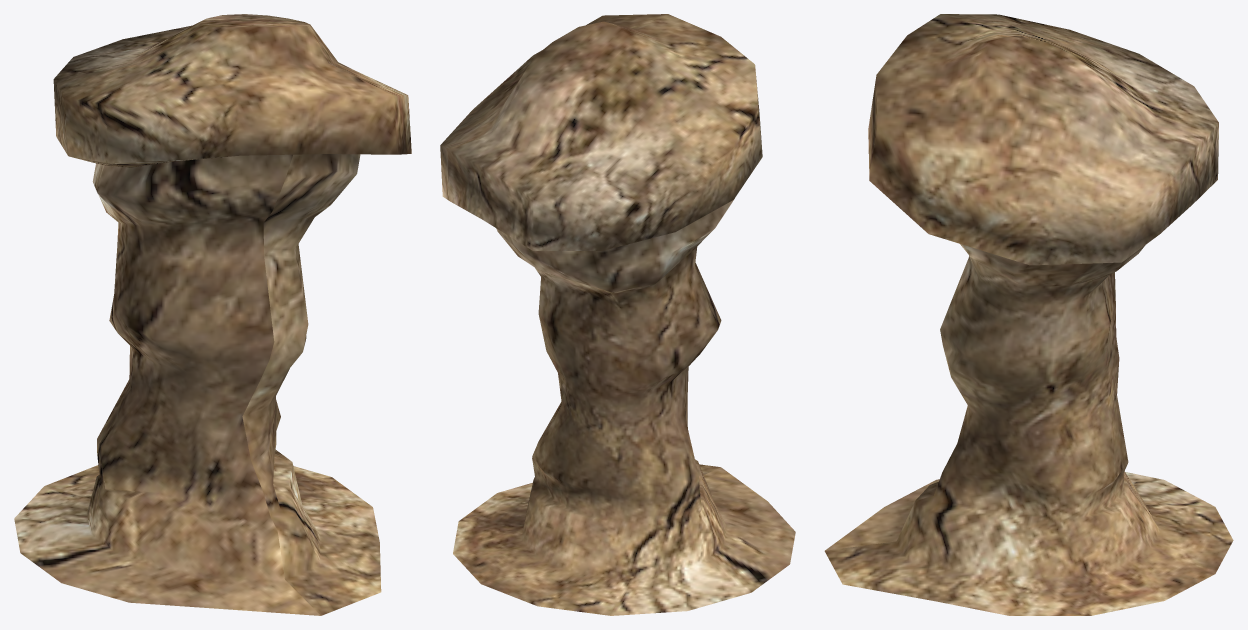
File: des_rock_formationB.fbx
3 views of the same model, side by side, from view 1: azimuth 30°, elevation 25°; view 2: azimuth 150°, elevation 25°; view 3: azimuth 270°, elevation 25° (orthographic). The views are drawn at different scales.
Visible parts, largest first — view 1: rock3; view 2: rock3; view 3: rock3.
Part boxes in pixels (<box>): rock3: <box>14,14,411,615</box>; rock3: <box>440,14,795,615</box>; rock3: <box>824,14,1233,615</box>.
Size of the model in its own units: 1184 by 1825 by 1304.
1 material, 1 textured.
